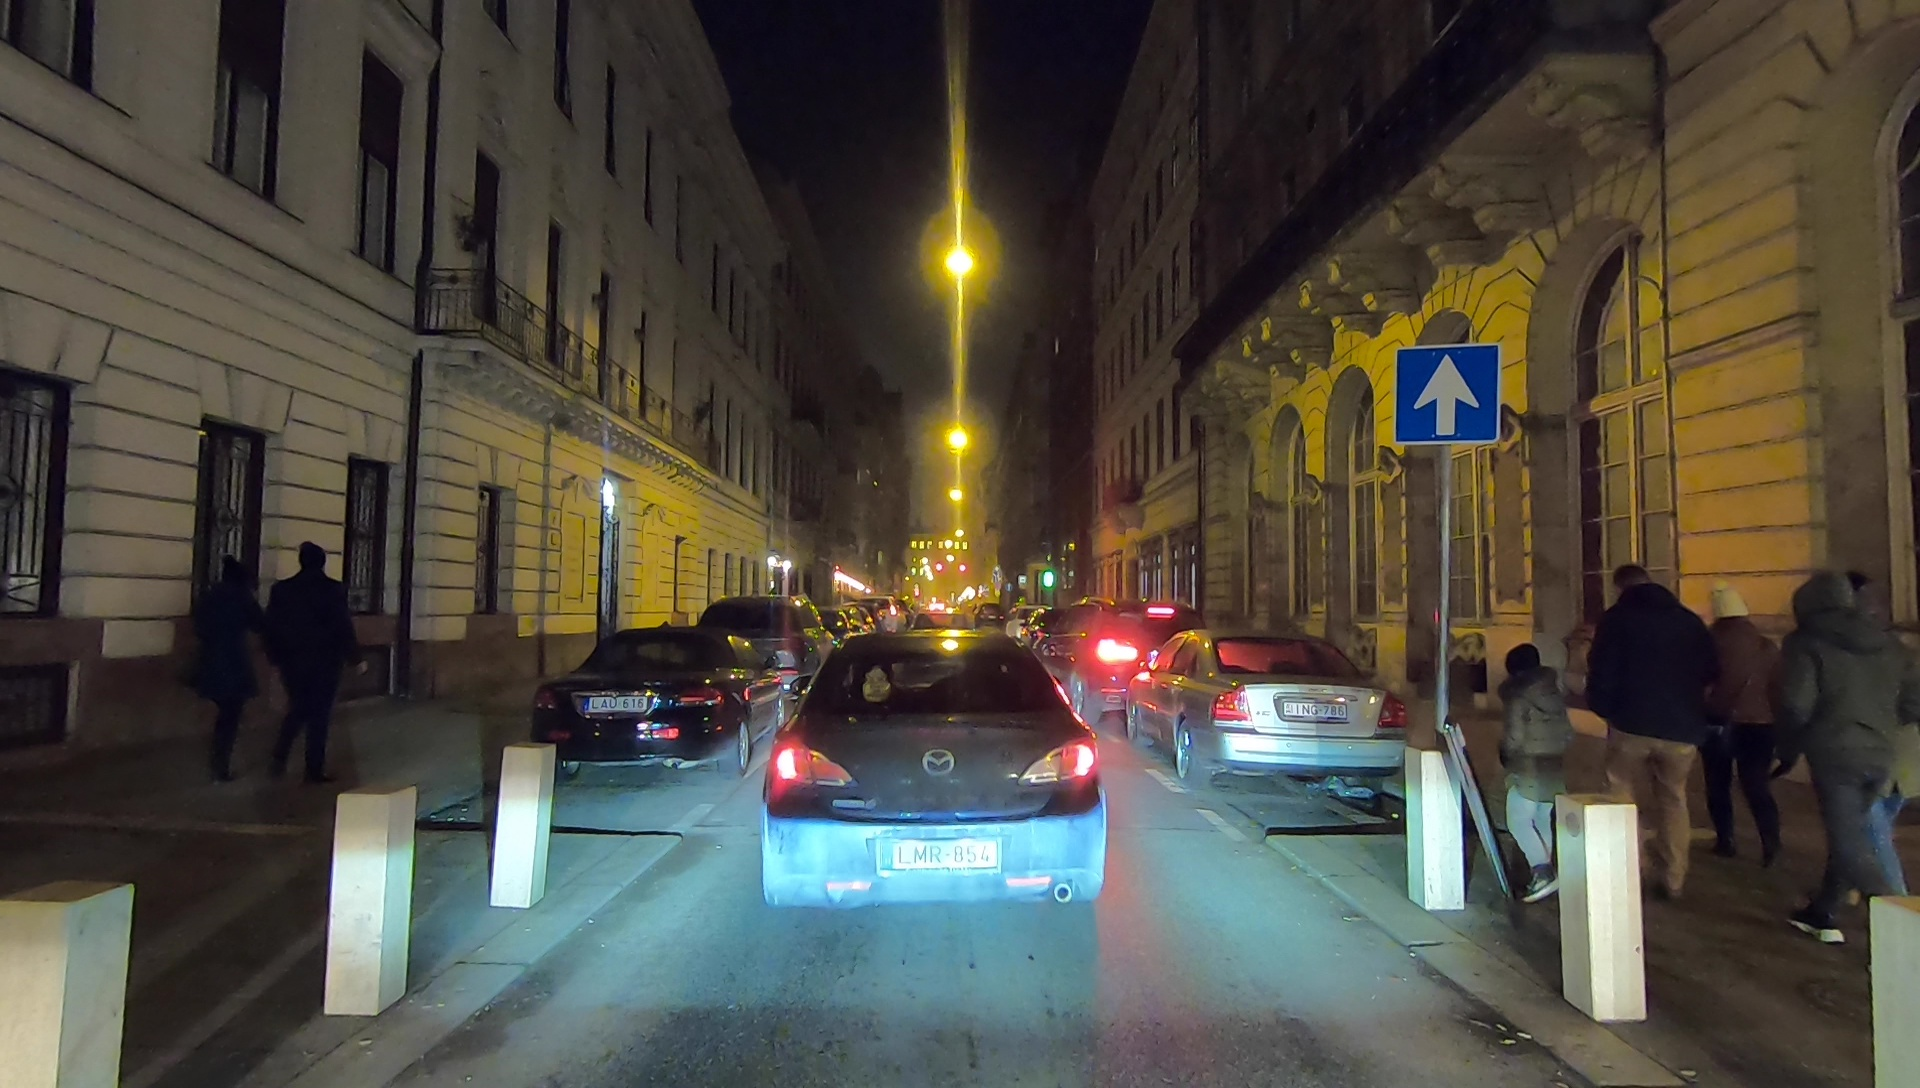person: (1784, 565, 1915, 956), (1595, 565, 1710, 908), (1695, 578, 1793, 873), (1480, 641, 1575, 913), (267, 550, 352, 787), (188, 554, 260, 791)
